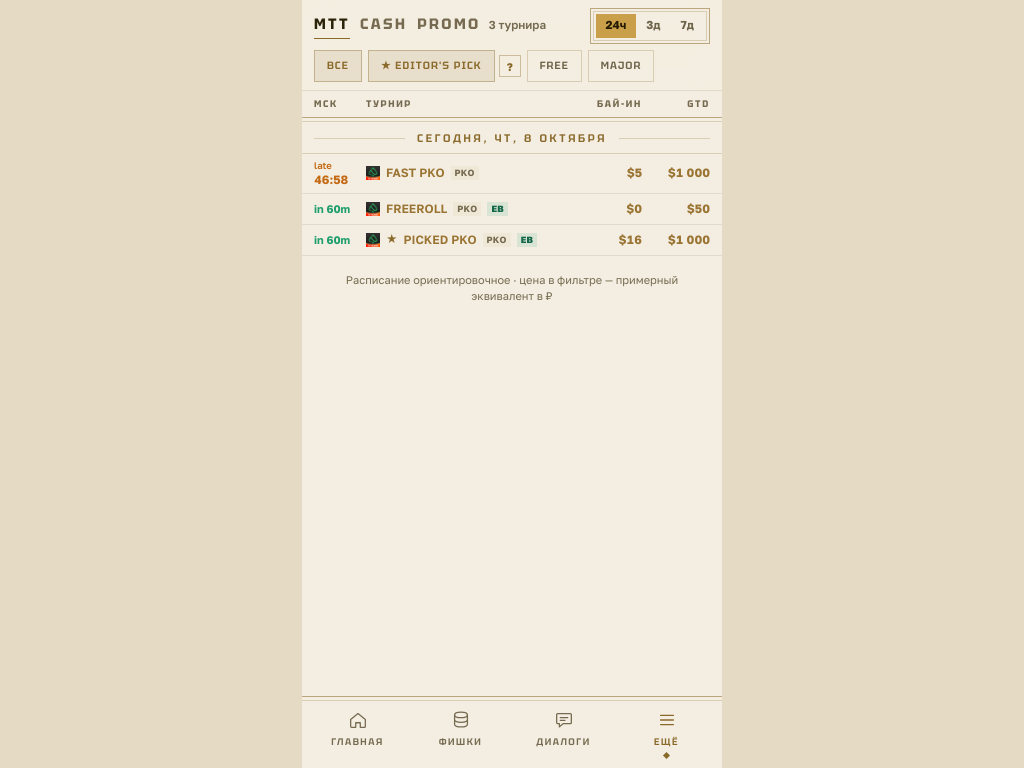
Test: TournamentsPage › Free и Editor's Pick — фильтры на месте, заметка пика в карточке
The image size is (1024, 768).
Expected: the number of rows with test id "tournament-row" is 3, [302,154,722,194]; [302,194,722,225]; [302,225,722,256]
Click the button "Free".
click(554, 66)  # box [527,50,582,82]
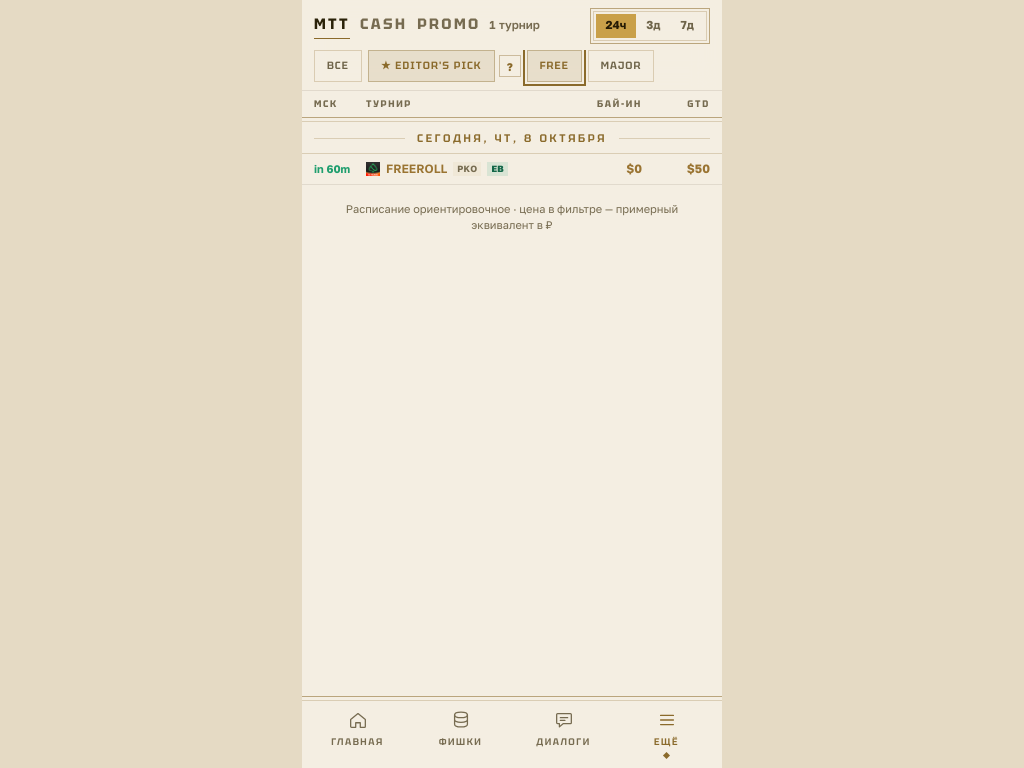
Expected: the text "FREEROLL" is shown, [386,160,447,178]
Now the number of rows with test id "tournament-row" is 1, box [302,154,722,185]
Click the button "Free".
click(554, 66)  # box [527,50,582,82]
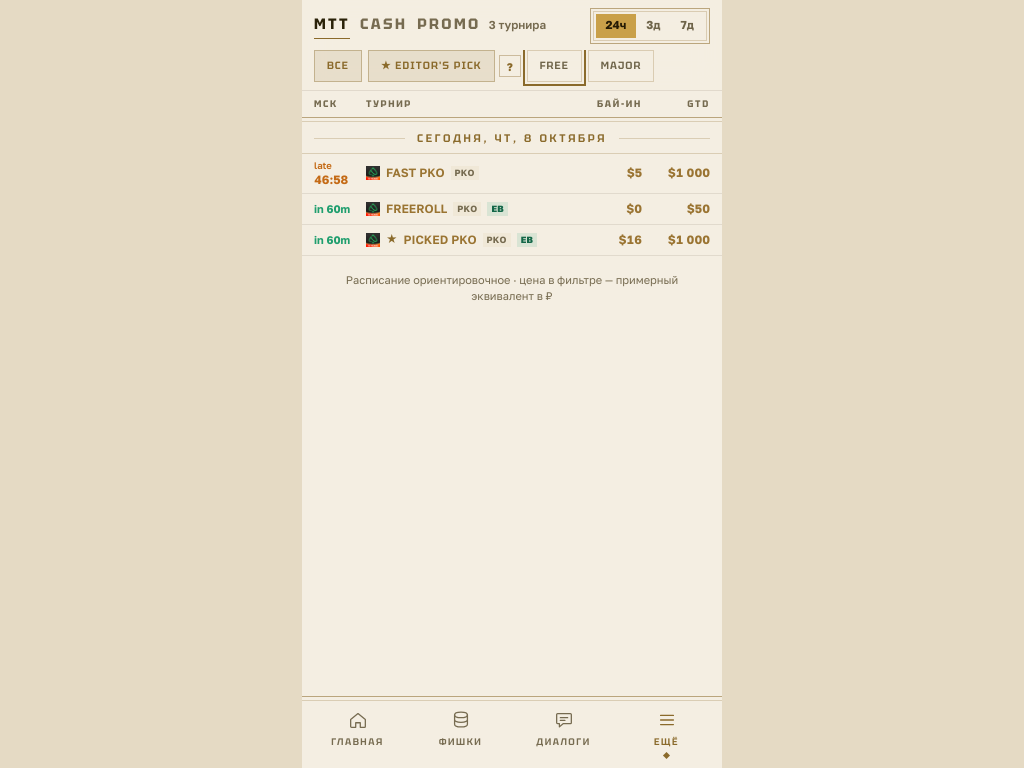
Click the button "★ Editor's Pick".
click(431, 66)  # box [368,50,495,82]
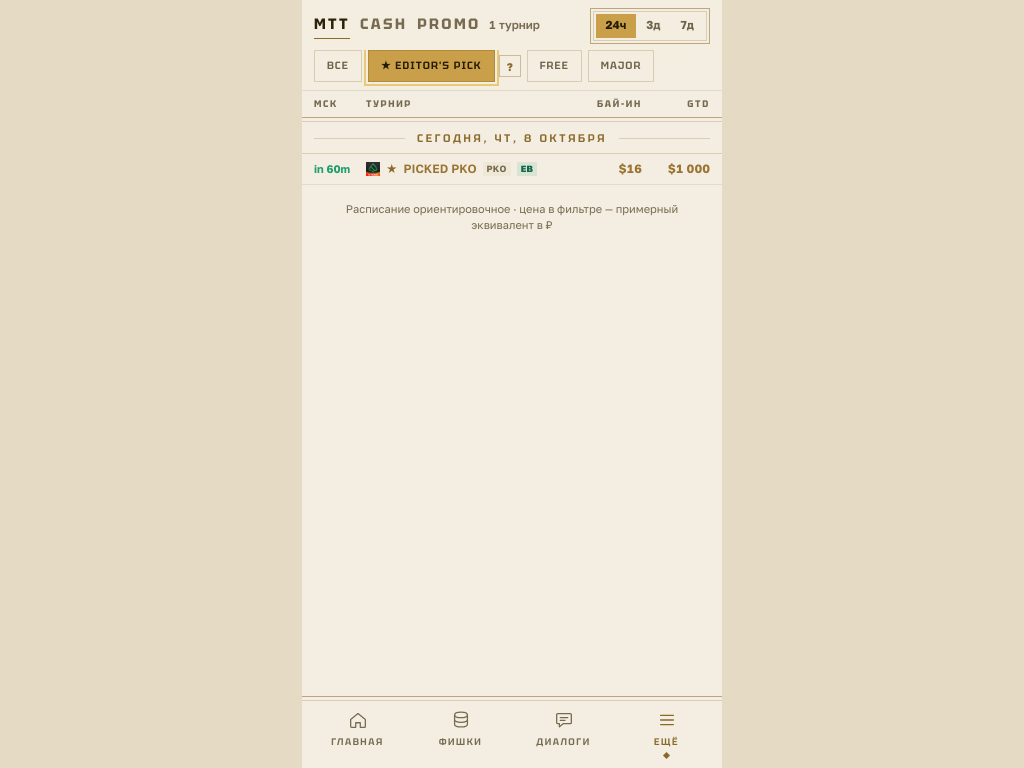
Now the number of rows with test id "tournament-row" is 1, box [302,154,722,185]
Click the text "PICKED PKO".
click(440, 169)  # box [404,160,476,178]
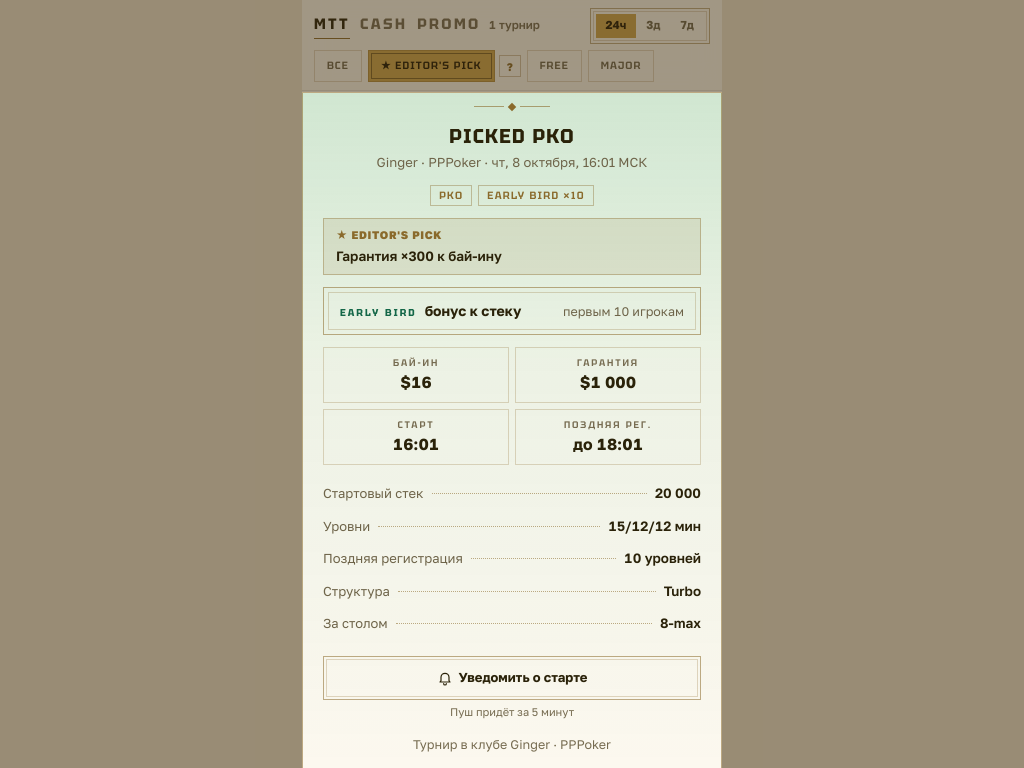
Now the element with test id "editors-pick-plate" shows "Гарантия ×300 к бай-ину", box [336,248,502,264]
